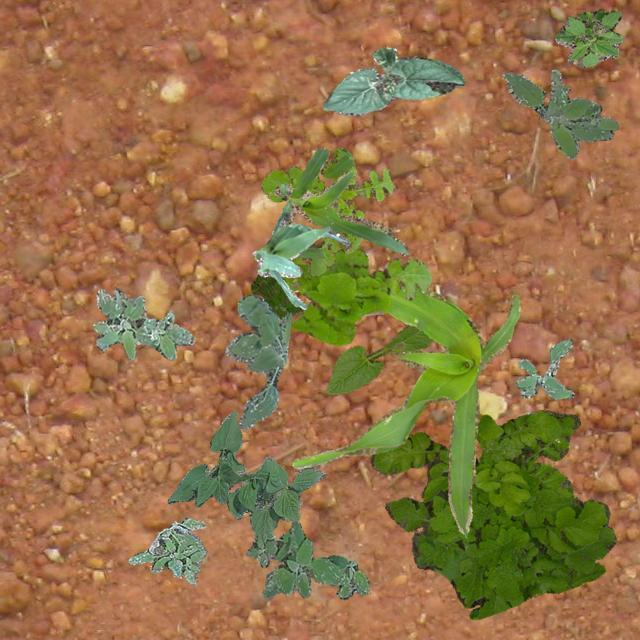crop: (287, 284, 519, 536), (167, 410, 326, 536), (272, 146, 408, 255), (322, 46, 464, 115), (252, 212, 348, 308), (326, 324, 432, 394)
weed: (370, 408, 614, 618), (261, 147, 394, 276), (280, 243, 430, 344), (502, 68, 618, 158), (245, 520, 368, 598), (223, 294, 290, 428), (92, 287, 194, 358), (127, 516, 205, 584), (554, 8, 622, 66), (514, 338, 572, 398), (250, 274, 304, 318)
